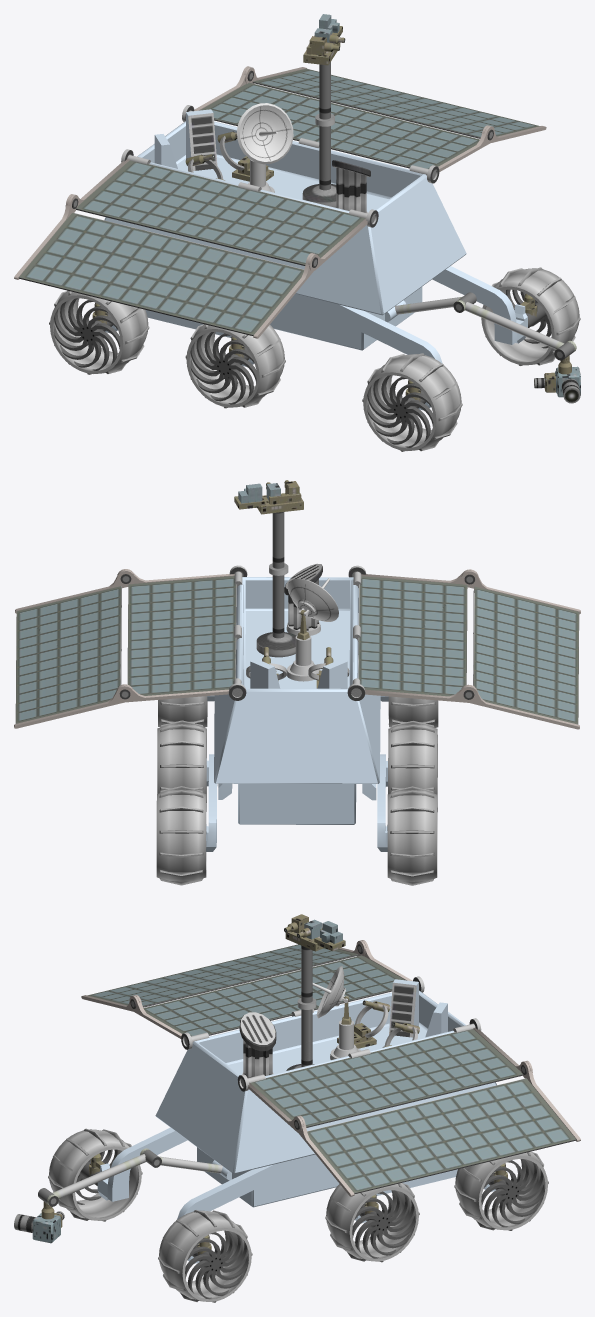
The model's file is yutu.glb.
The picture shows the model from 3 angles, top to bottom: view 1: azimuth 30°, elevation 25°; view 2: azimuth 150°, elevation 25°; view 3: azimuth 270°, elevation 25°; orthographic projection. The views are drawn at different scales.
Parts seen in each view (by area): view 1: Yutu (×2); view 2: Yutu (×2); view 3: Yutu (×2).
Boxes of the visible parts, left/top/right/bottom form: Yutu (×2): left=14, top=14, right=580, bottom=451; Yutu (×2): left=14, top=480, right=580, bottom=885; Yutu (×2): left=14, top=914, right=580, bottom=1302.
Size of what is drawn, in the model's own units: 1.06 by 0.6066 by 1.
2 materials, 1 textured.
